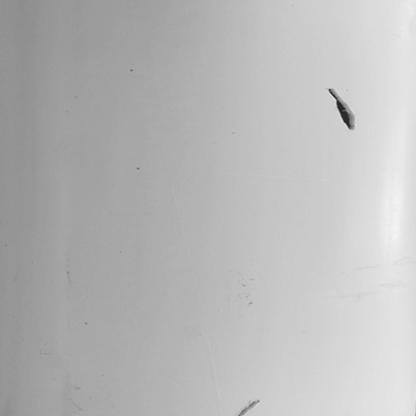fengxi: (234, 397, 264, 416)
kongdong: (328, 87, 360, 130)
